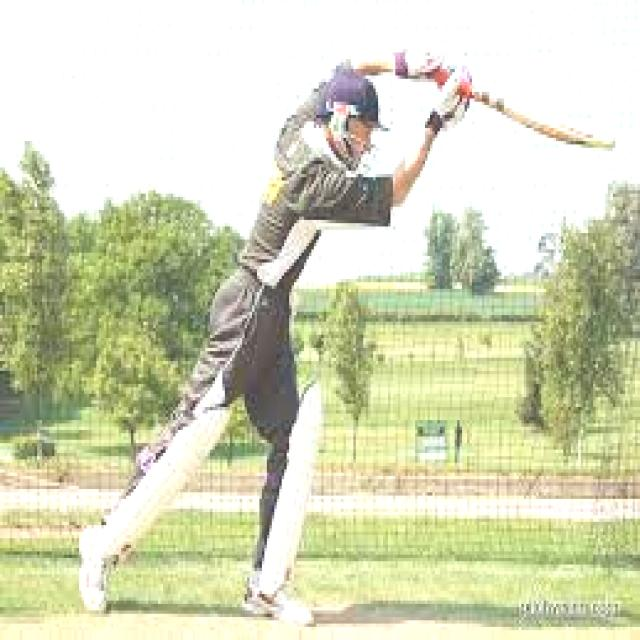toe: (566, 120, 620, 164)
